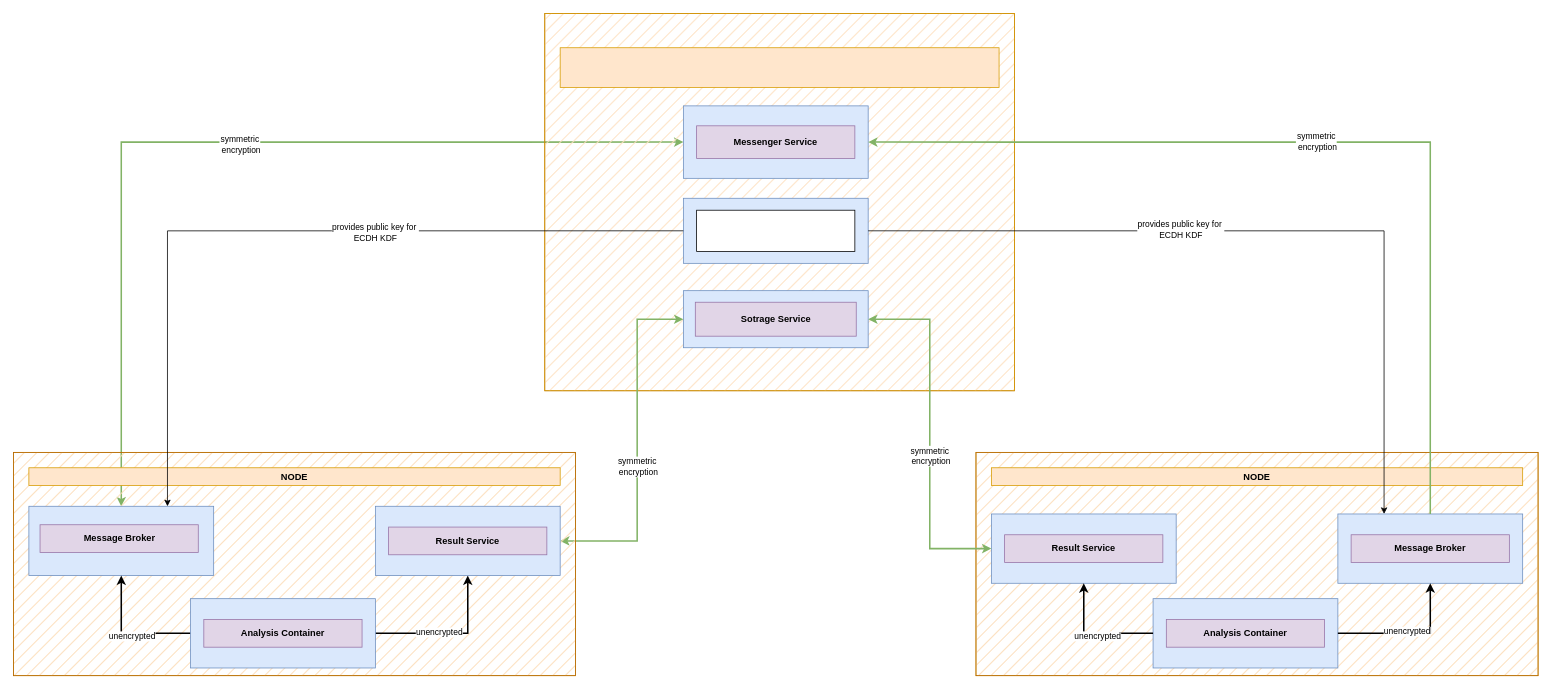
Image size: 1552x689. Some labels were removed from this diagram. Each missing label, with the centre of its shape:
HUB: pixel 779 67
Key Service: pixel 775 230
